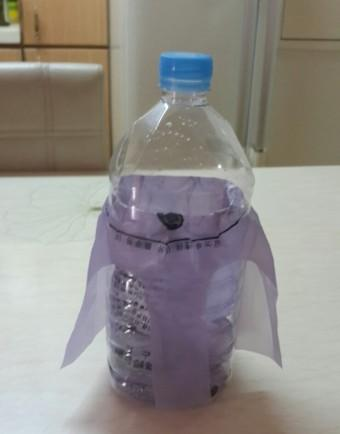bottle: (104, 51, 255, 407)
